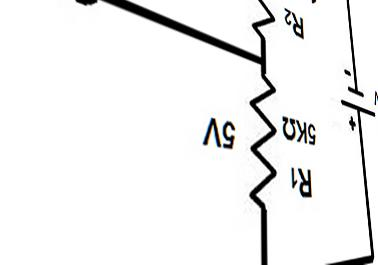resistor: (243, 76, 279, 219)
